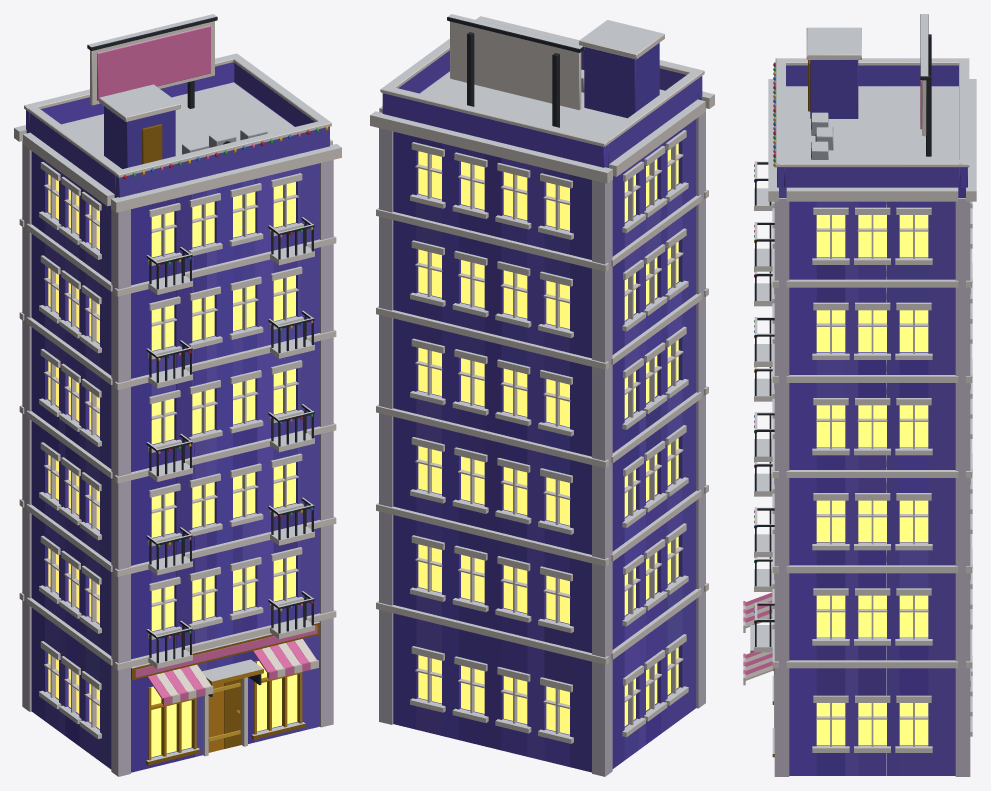
Rendered from Apartment_Plum.glb.
3 views of the same model, side by side, from view 1: azimuth 30°, elevation 25°; view 2: azimuth 150°, elevation 25°; view 3: azimuth 270°, elevation 25° (orthographic). The views are drawn at different scales.
Visible parts, largest first — view 1: Apartment_Plum_Walls, Apartment_Plum_Trim, Apartment_Plum_Roof, Apartment_Plum_Glow, Apartment_Plum_Balconies, Apartment_Plum_Shopfront, Apartment_Plum_Lights; view 2: Apartment_Plum_Walls, Apartment_Plum_Trim, Apartment_Plum_Roof, Apartment_Plum_Glow; view 3: Apartment_Plum_Walls, Apartment_Plum_Trim, Apartment_Plum_Roof, Apartment_Plum_Glow, Apartment_Plum_Balconies, Apartment_Plum_Shopfront.
Boxes of the visible parts, x1=… form: Apartment_Plum_Walls: x1=26, y1=82, x2=319, y2=772; Apartment_Plum_Trim: x1=14, y1=125, x2=341, y2=776; Apartment_Plum_Roof: x1=24, y1=14, x2=331, y2=197; Apartment_Plum_Glow: x1=48, y1=174, x2=297, y2=757; Apartment_Plum_Balconies: x1=146, y1=217, x2=314, y2=668; Apartment_Plum_Shopfront: x1=131, y1=621, x2=320, y2=756; Apartment_Plum_Lights: x1=123, y1=126, x2=328, y2=641; Apartment_Plum_Walls: x1=393, y1=71, x2=701, y2=772; Apartment_Plum_Trim: x1=370, y1=91, x2=714, y2=776; Apartment_Plum_Roof: x1=380, y1=14, x2=704, y2=167; Apartment_Plum_Glow: x1=418, y1=143, x2=678, y2=734; Apartment_Plum_Walls: x1=779, y1=86, x2=965, y2=775; Apartment_Plum_Trim: x1=768, y1=79, x2=976, y2=776; Apartment_Plum_Roof: x1=775, y1=14, x2=969, y2=187; Apartment_Plum_Glow: x1=816, y1=205, x2=928, y2=744; Apartment_Plum_Balconies: x1=754, y1=161, x2=774, y2=652; Apartment_Plum_Shopfront: x1=743, y1=592, x2=774, y2=727.
Size of the model in its own units: 27.8 by 78.45 by 24.42.
